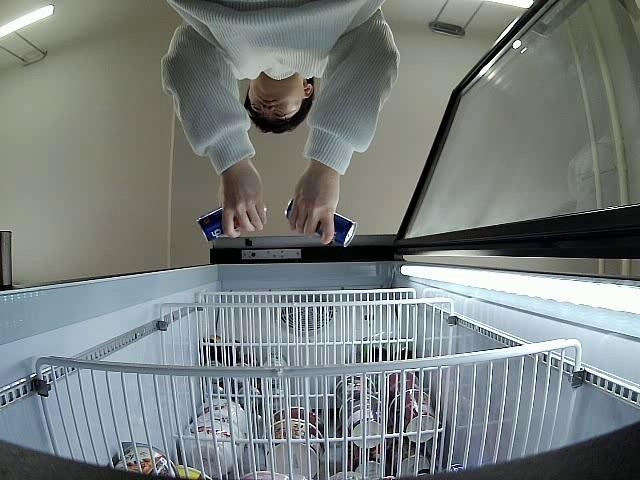16_hot6: (284, 198, 357, 249), (195, 205, 254, 244)
